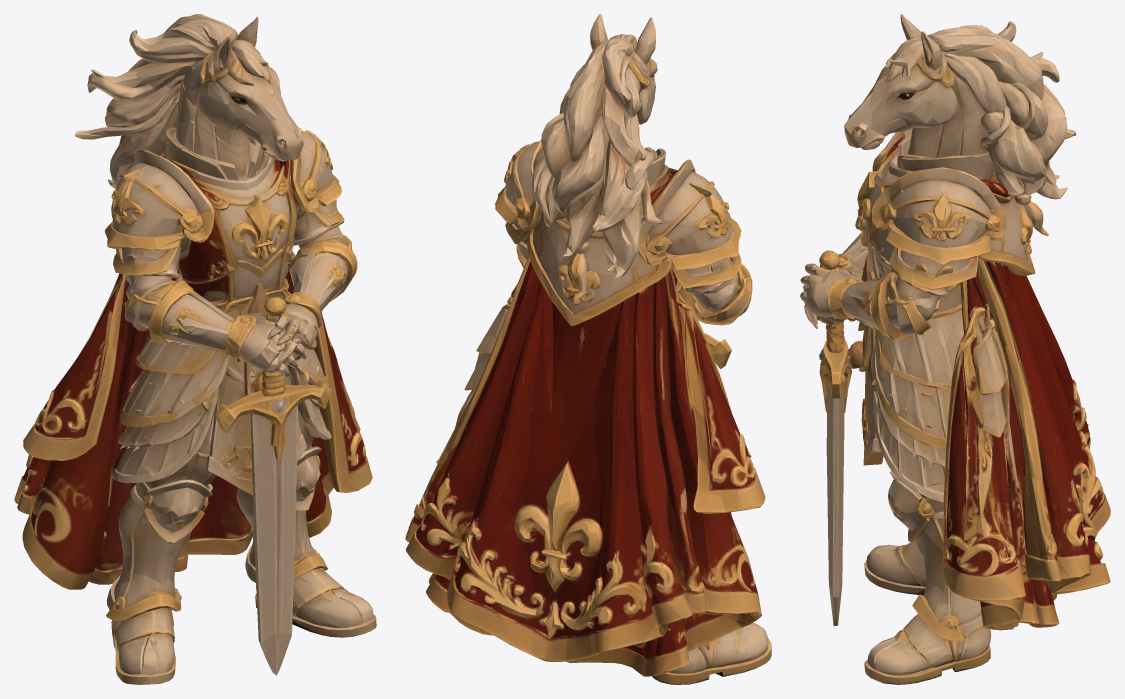
Rendered from knight_white.glb.
3 views of the same model, side by side, from view 1: azimuth 30°, elevation 25°; view 2: azimuth 150°, elevation 25°; view 3: azimuth 270°, elevation 25° (orthographic). The views are drawn at different scales.
Visible parts, largest first — view 1: output_unwrapped; view 2: output_unwrapped; view 3: output_unwrapped.
Boxes of the visible parts, x1,y1,x2,y2 form: output_unwrapped: (14, 14, 376, 684); output_unwrapped: (405, 14, 771, 684); output_unwrapped: (800, 14, 1110, 684).
Size of the model in its own units: 1.09 by 1.9 by 0.881.
Materials: 1 (1 with a texture image).
